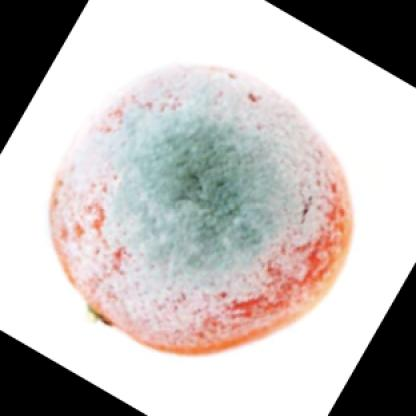rotten: (47, 65, 354, 357)
